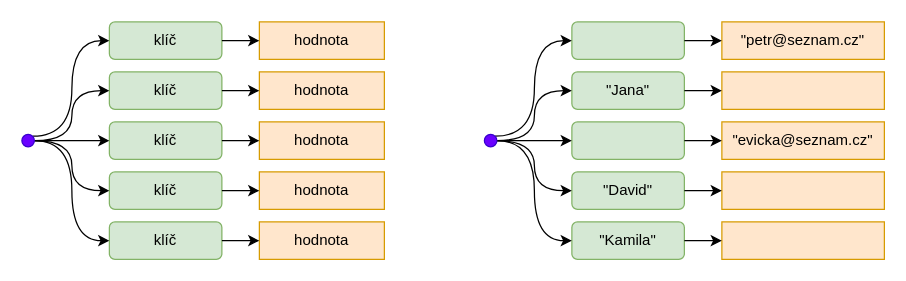
The diagram is 906 pixels wide and 281 high, and some of its shapes have lost their labels. The shapes that lost their labels are listed below. From the top down, each one's box as (x1, y1, x2, y2) in pixels, then its label:
(571, 21, 684, 59): "Petr"
(721, 71, 884, 109): "jana@volny.cz"
(571, 121, 684, 159): "Eva"
(721, 171, 884, 209): "dave@gmail.com"
(721, 221, 884, 259): "kamila93@office.com"
